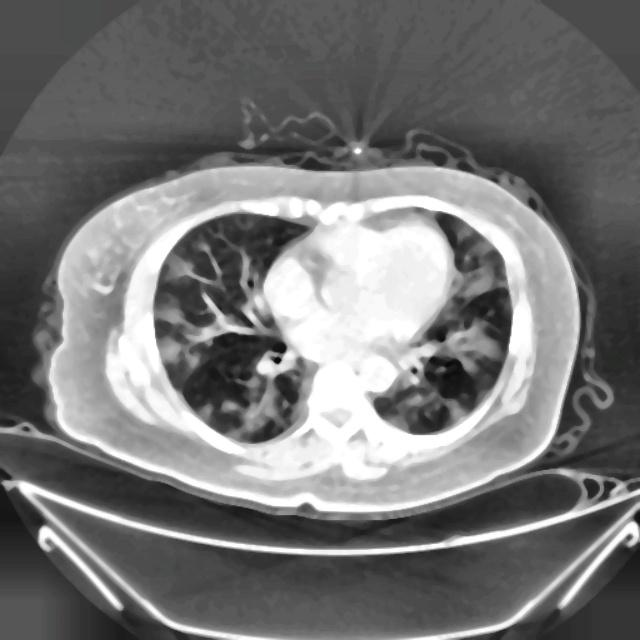covid: (33, 133, 587, 522)
